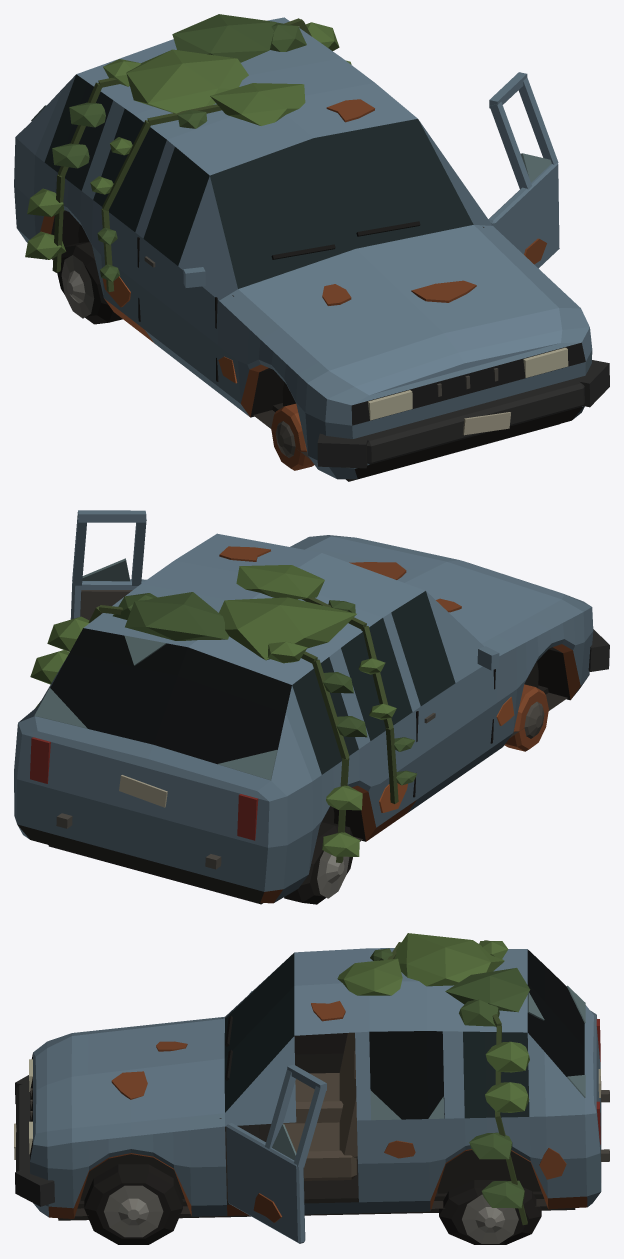
The model's file is carro_abandonado_2.glb.
3 renders of one model, top to bottom at view 1: azimuth 30°, elevation 25°; view 2: azimuth 150°, elevation 25°; view 3: azimuth 270°, elevation 25°, orthographic. The views are drawn at different scales.
Parts seen in each view (by area): view 1: carro_abandonado_2.001; view 2: carro_abandonado_2.001; view 3: carro_abandonado_2.001.
Part boxes in pixels (x1,y1,x2,y2): carro_abandonado_2.001: (14, 14, 609, 481); carro_abandonado_2.001: (14, 510, 609, 904); carro_abandonado_2.001: (14, 933, 609, 1244).
Size of the model in its own units: 2.33 by 1.39 by 3.34.
